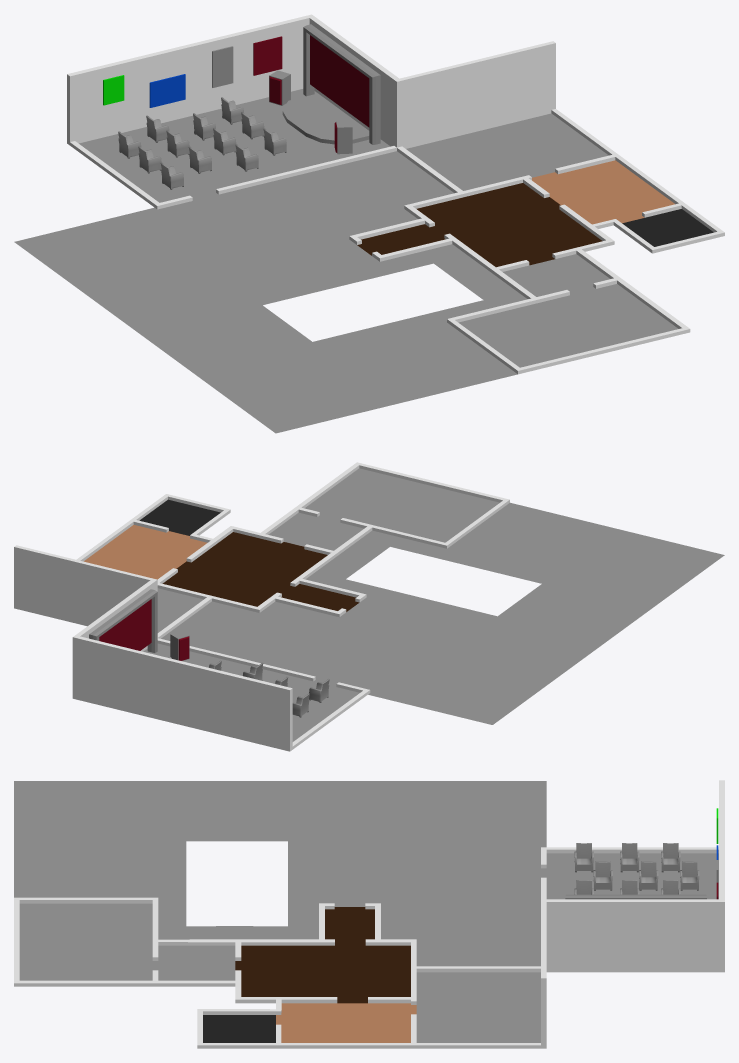
Rendered from Salle_07.FBX.
3 renders of one model, top to bottom at view 1: azimuth 30°, elevation 25°; view 2: azimuth 150°, elevation 25°; view 3: azimuth 270°, elevation 25°, orthographic. The views are drawn at different scales.
Parts seen in each view (by area): view 1: Piece_07, Ecran_Cinema, Estrade, Tableau_04, Tableau_02, Tableau_03, Baffle_01; view 2: Piece_07, Ecran_Cinema, Baffle_02; view 3: Piece_07, Ecran_Cinema, fauteuil_terrasse012, fauteuil_terrasse010, fauteuil_terrasse011, fauteuil_terrasse013, fauteuil_terrasse015, fauteuil_terrasse014.
Boxes of the visible parts, x1,y1,x2,y2 form: Piece_07: (14, 14, 724, 433); Ecran_Cinema: (303, 24, 380, 144); Estrade: (282, 93, 369, 144); Tableau_04: (253, 36, 282, 75); Tableau_02: (149, 74, 185, 107); Tableau_03: (212, 46, 233, 87); Baffle_01: (269, 70, 290, 105); Piece_07: (14, 462, 724, 751); Ecran_Cinema: (89, 589, 157, 652); Baffle_02: (170, 631, 189, 661); Piece_07: (14, 780, 724, 1048); Ecran_Cinema: (565, 894, 706, 899); fauteuil_terrasse012: (593, 861, 612, 890); fauteuil_terrasse010: (680, 861, 699, 890); fauteuil_terrasse011: (639, 861, 658, 890); fauteuil_terrasse013: (661, 843, 680, 872); fauteuil_terrasse015: (574, 843, 593, 872); fauteuil_terrasse014: (620, 843, 639, 872).
Bounding box in the file's own units: 2445 × 301 × 2744.
